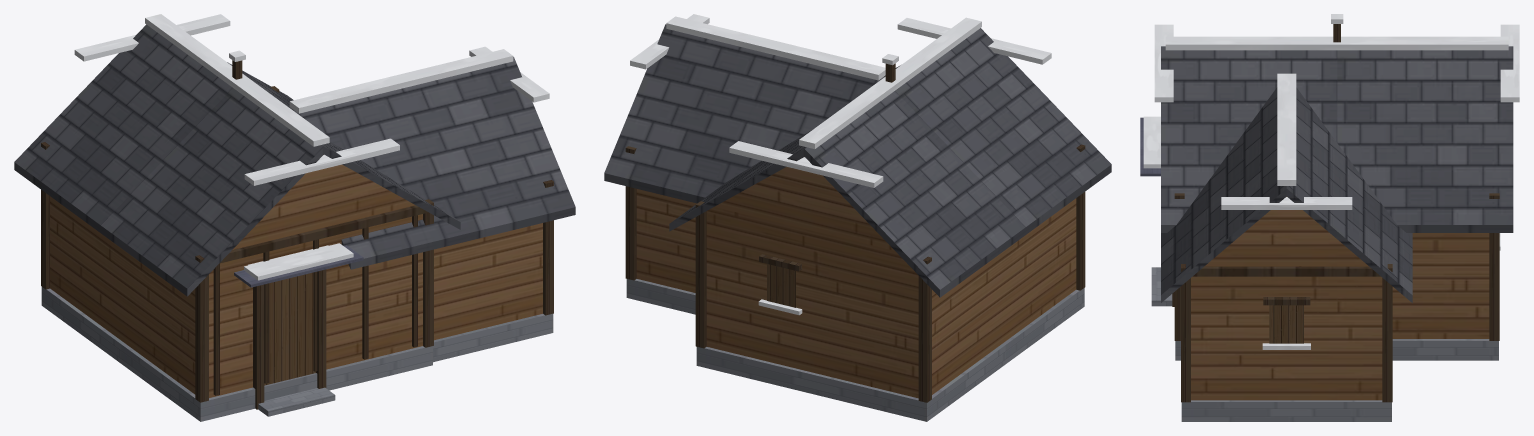
The model's file is ae_snow_wood_medium_l_lod0.glb.
3 views of the same model, side by side, from view 1: azimuth 30°, elevation 25°; view 2: azimuth 150°, elevation 25°; view 3: azimuth 270°, elevation 25° (orthographic). The views are drawn at different scales.
Visible parts, largest first — view 1: ae_snow_wood_medium_l_lod0; view 2: ae_snow_wood_medium_l_lod0; view 3: ae_snow_wood_medium_l_lod0.
Part boxes in pixels (left/top/right/bottom): ae_snow_wood_medium_l_lod0: left=14, top=14, right=575, bottom=421; ae_snow_wood_medium_l_lod0: left=604, top=14, right=1111, bottom=421; ae_snow_wood_medium_l_lod0: left=1140, top=14, right=1519, bottom=421.
Bounding box in the file's own units: 7.32 × 5.02 × 6.02.
1 material, 1 textured.
